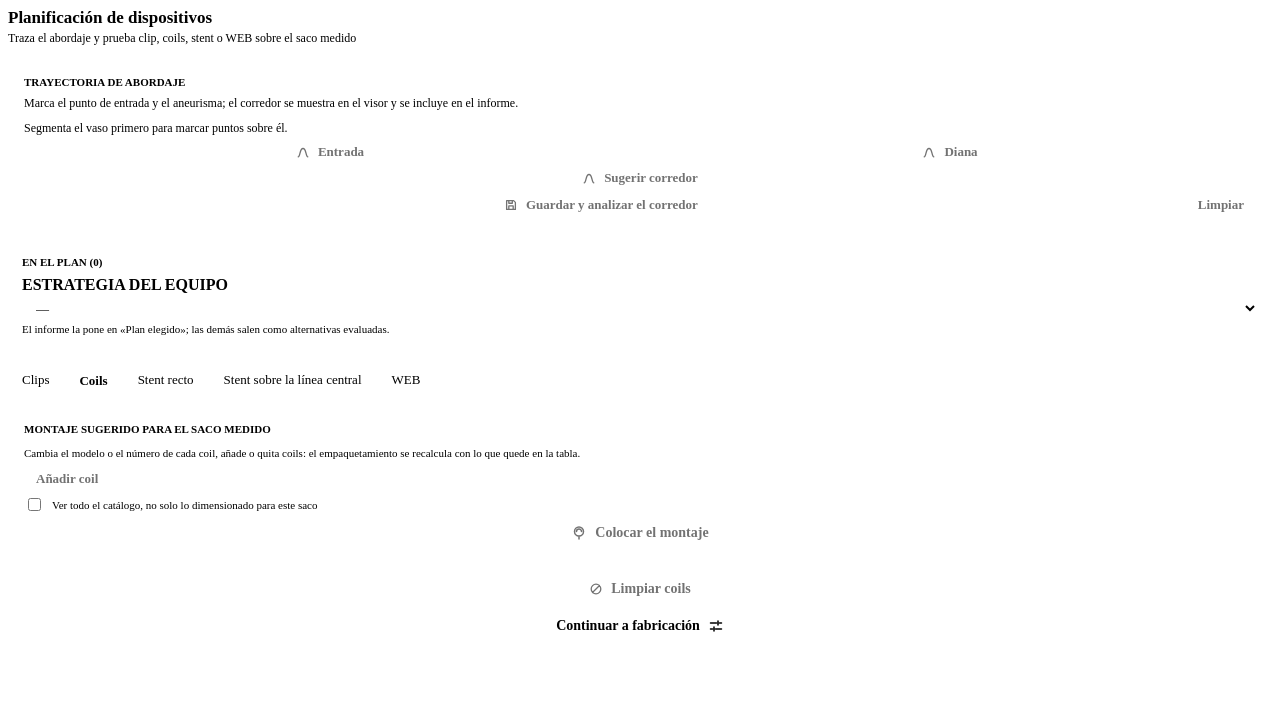
Test: una sola vía de coils (decisión nº 24) › el montaje sugerido llega como filas editables, una por escalón
What coordinates should you click on to do the following:
click the button "Coils"
I would click on:
 (94, 380)
Its box is [66,364,122,398].
(page scrolled)
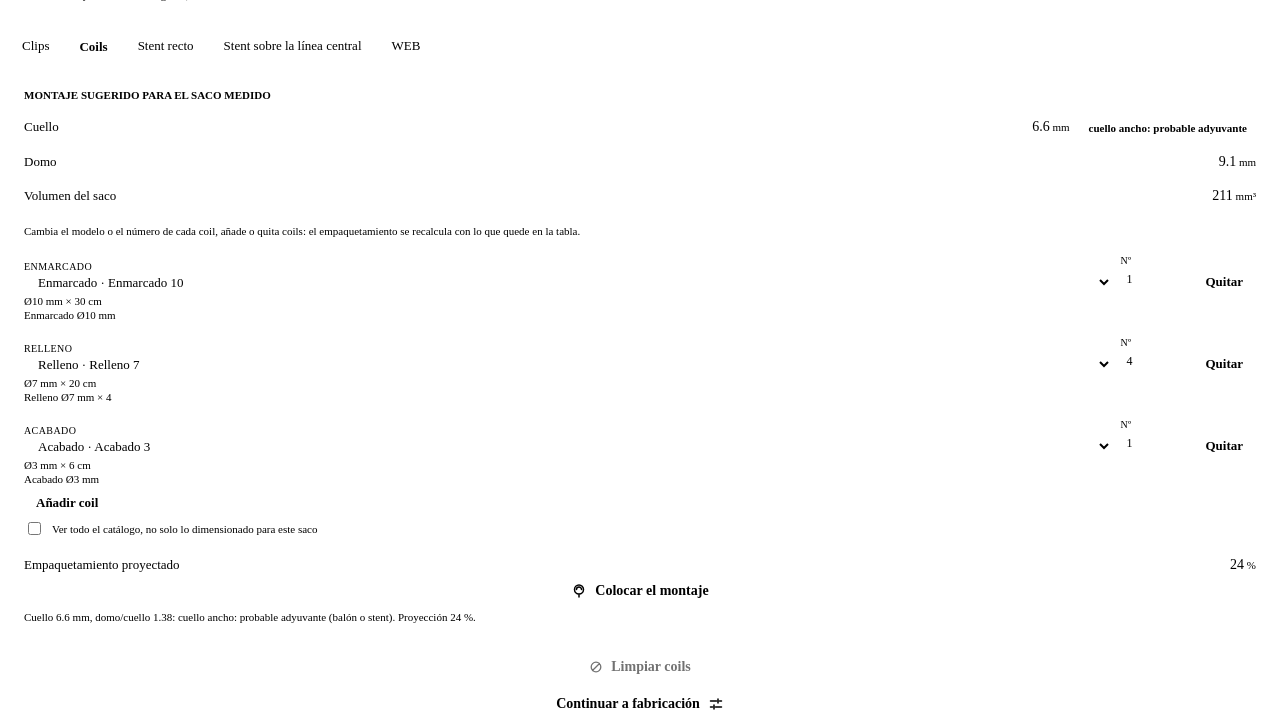
Now the dropdown named "Modelo (fila 1)" shows "Enmarcado · Enmarcado 10", box [24,274,1112,291]
Now the text "24" is shown, box [1230,557,1244,572]
